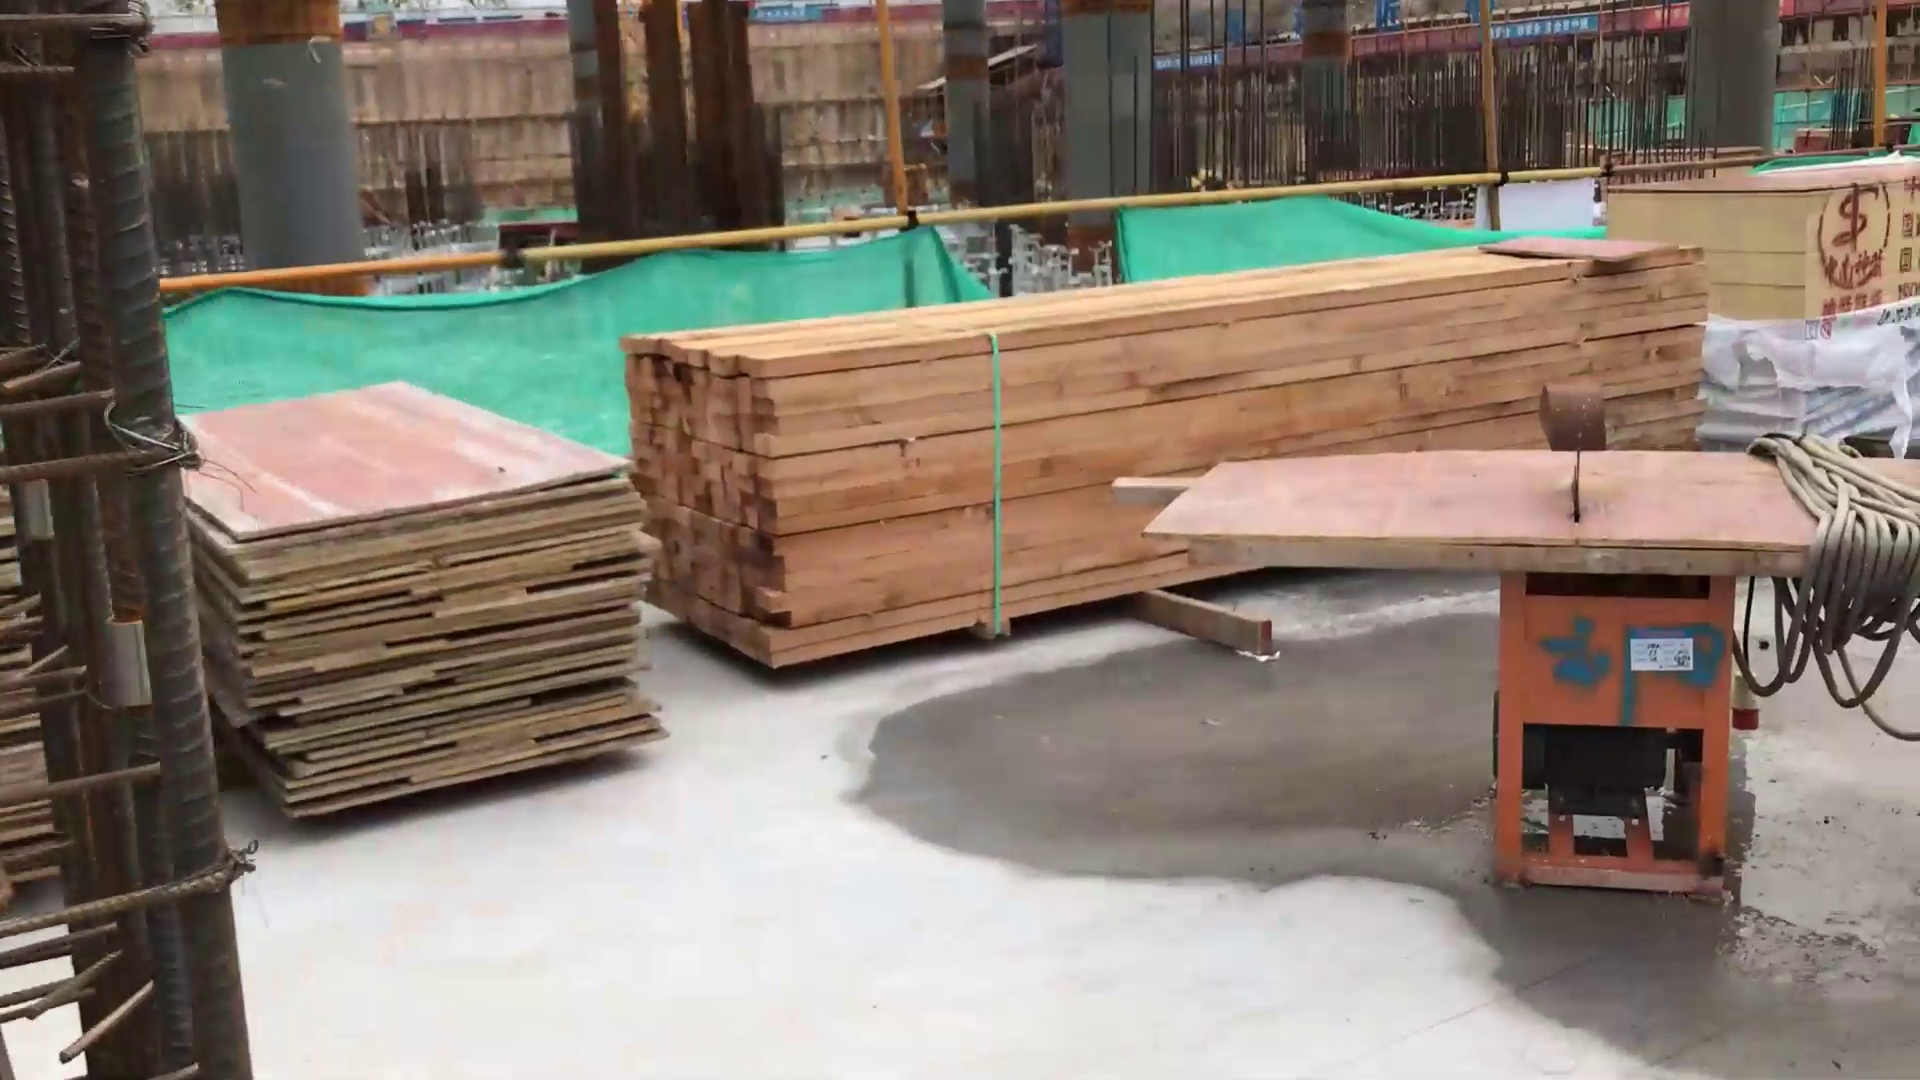board: (185, 454, 614, 780)
cutter: (1200, 387, 1874, 935)
helmet: (1191, 169, 1212, 191)
person: (1191, 166, 1230, 194)
wood: (701, 253, 1183, 639), (1193, 256, 1703, 382)
